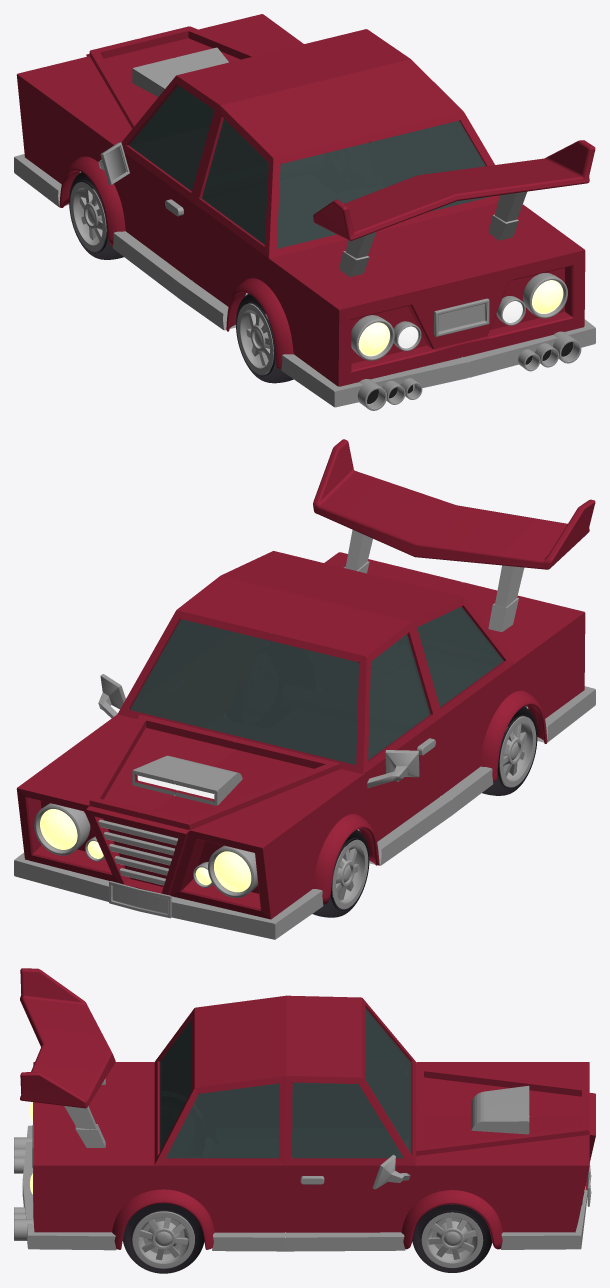
Rendered from asset.glb.
3 views of the same model, one above another, from view 1: azimuth 30°, elevation 25°; view 2: azimuth 150°, elevation 25°; view 3: azimuth 270°, elevation 25° (orthographic). The views are drawn at different scales.
Parts seen in each view (by area): view 1: 1 车身, 4 玻璃2, 1 尾翼上, 2 后车灯, 6 排气口, 3 后轮, 3 前轮, 1 尾翼下, 1 后轮胎罩, 1 前轮胎罩, 4 后车牌, 4 后视镜; view 2: 1 车身, 4 玻璃2, 1 尾翼上, 2 前车灯, 3 后轮, 3 前轮, 5 进风口, 1 尾翼下, 1 前轮胎罩, 1 后轮胎罩, 4 后视镜, 3 前车牌; view 3: 1 车身, 4 玻璃2, 1 尾翼上, 3 后轮, 3 前轮, 1 前轮胎罩, 1 后轮胎罩, 1 尾翼下, 6 排气口, 4 后视镜.
Boxes of the visible parts, box(x1,y1,x2,y2) form: 1 车身: box(14, 14, 595, 407); 4 玻璃2: box(129, 85, 491, 248); 1 尾翼上: box(313, 140, 595, 240); 2 后车灯: box(351, 273, 567, 360); 6 排气口: box(357, 331, 581, 410); 3 后轮: box(236, 294, 293, 383); 3 前轮: box(69, 172, 123, 259); 1 尾翼下: box(339, 191, 526, 277); 1 后轮胎罩: box(226, 278, 293, 368); 1 前轮胎罩: box(59, 156, 125, 246); 4 后车牌: box(434, 298, 489, 336); 4 后视镜: box(98, 142, 129, 184); 1 车身: box(14, 551, 595, 939); 4 玻璃2: box(130, 606, 503, 765); 1 尾翼上: box(313, 439, 595, 569); 2 前车灯: box(34, 803, 258, 897); 3 后轮: box(482, 706, 537, 795); 3 前轮: box(312, 830, 369, 917); 5 进风口: box(98, 819, 177, 885); 1 尾翼下: box(344, 530, 524, 632); 1 前轮胎罩: box(313, 814, 379, 904); 1 后轮胎罩: box(480, 690, 547, 781); 4 后视镜: box(98, 674, 419, 788); 3 前车牌: box(109, 881, 171, 918); 1 车身: box(22, 995, 595, 1251); 4 玻璃2: box(159, 1008, 410, 1158); 1 尾翼上: box(20, 968, 115, 1108); 3 后轮: box(122, 1203, 204, 1273); 3 前轮: box(412, 1204, 492, 1272); 1 前轮胎罩: box(401, 1190, 502, 1249); 1 后轮胎罩: box(112, 1189, 214, 1249); 1 尾翼下: box(64, 1078, 105, 1147); 6 排气口: box(14, 1137, 33, 1240); 4 后视镜: box(372, 1154, 410, 1189).
Bounding box in the file's own units: 2.89 × 2.04 × 5.31.
